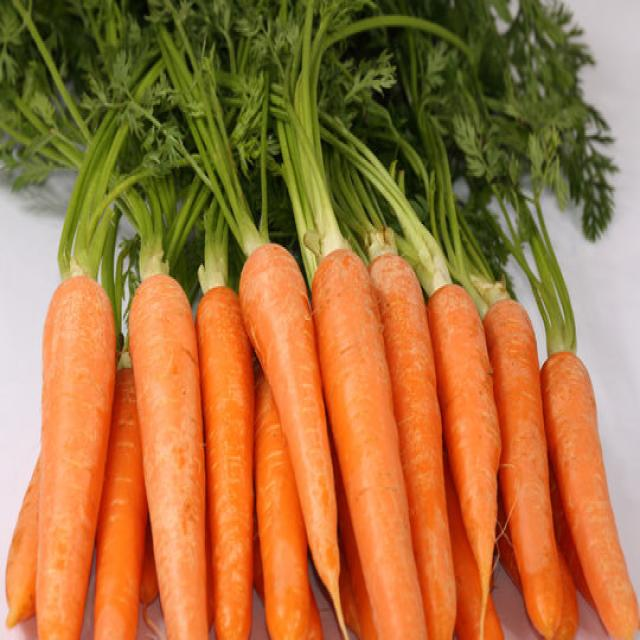Carrot: (489, 178, 639, 638), (309, 247, 429, 638), (238, 242, 350, 638), (366, 247, 456, 638), (33, 272, 116, 638), (128, 272, 209, 638), (539, 348, 639, 638), (481, 295, 563, 638), (426, 281, 502, 638), (194, 284, 255, 638), (252, 370, 324, 638), (92, 363, 147, 638), (444, 468, 504, 638), (4, 448, 40, 628), (338, 484, 376, 638), (550, 546, 578, 638)
